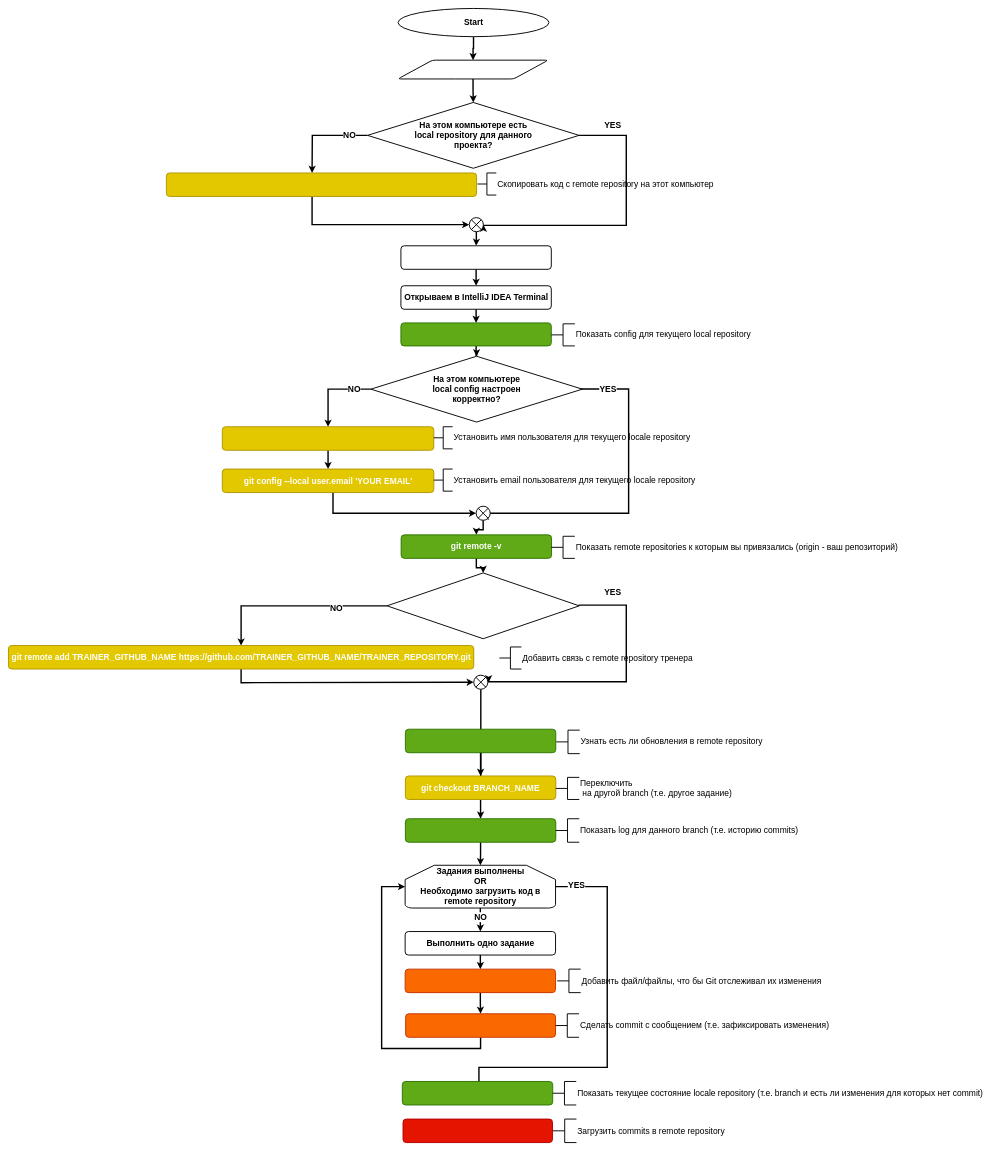
Some shapes in this 991 by 1151 pixel diagram are drawn without their labels. Here are the shapes that lost their labels. From the top down, the box of each, then its label:
(397, 59, 548, 79): https://github.com/rakovets/wiki/blob/master/git.md
(166, 172, 477, 197): git clone https://github.com/YOUR_GITHUB_NAME/YOUR_REPOSITORY.git
(400, 245, 552, 270): Запускаем проект с помощью IntelliJ IDEA
(400, 322, 552, 346): git config --local --list
(222, 426, 434, 450): git config --local user.name 'YOUR FULLNAME'
(386, 572, 580, 639): Для данного проекта привязан remote repository тренера?
(405, 728, 556, 753): git fetch REMOTE_REPOSITORY
(405, 818, 556, 842): git log
(404, 968, 556, 993): git add *NAME_TASK.java
(405, 1013, 556, 1038): git commit -m "YOUR_MESSAGE"
(402, 1081, 553, 1105): git status
(402, 1118, 553, 1143): git push origin
